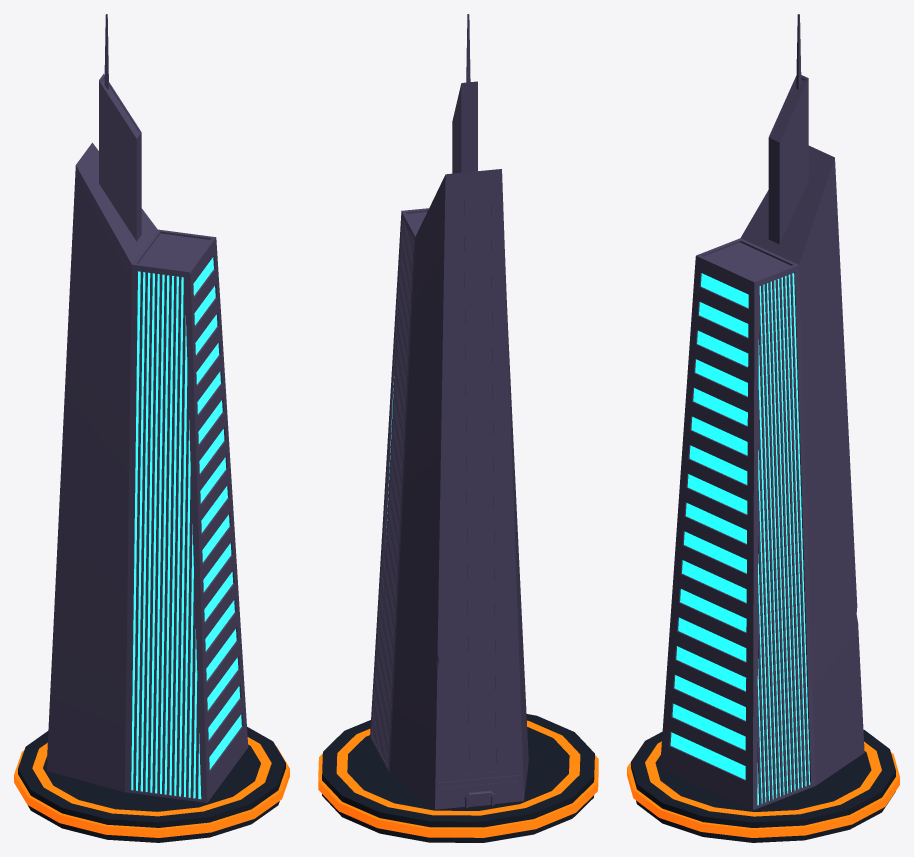
The model's file is House4.fbx.
3 renders of one model, left to right at view 1: azimuth 30°, elevation 25°; view 2: azimuth 150°, elevation 25°; view 3: azimuth 270°, elevation 25°, orthographic. The views are drawn at different scales.
Parts seen in each view (by area): view 1: House4; view 2: House4; view 3: House4.
Boxes of the visible parts, x1,y1,x2,y2 form: House4: [14, 14, 289, 842]; House4: [318, 14, 598, 842]; House4: [627, 14, 899, 842].
Size of the model in its own units: 3090 by 9618 by 3090.
